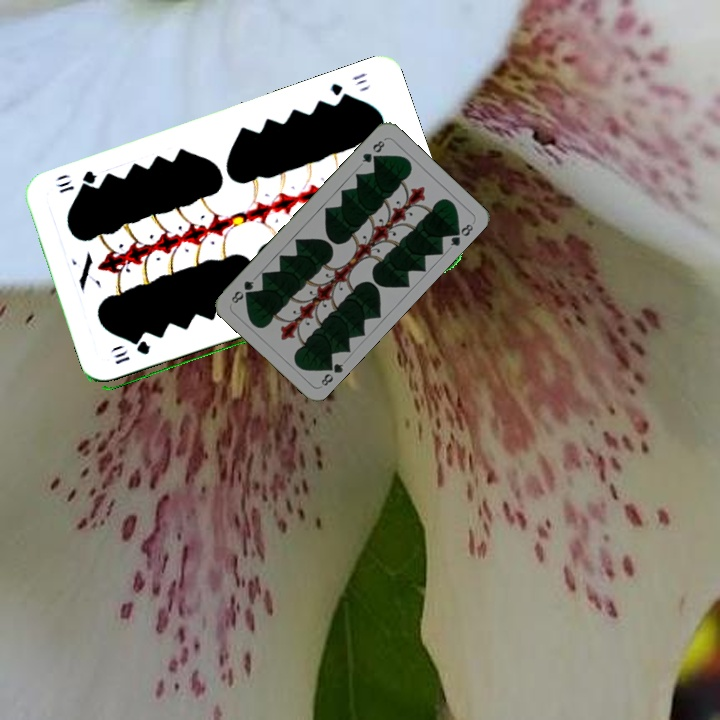G10: (326, 68, 370, 105), (110, 340, 153, 367)
G8: (317, 357, 346, 389), (358, 136, 388, 166)
